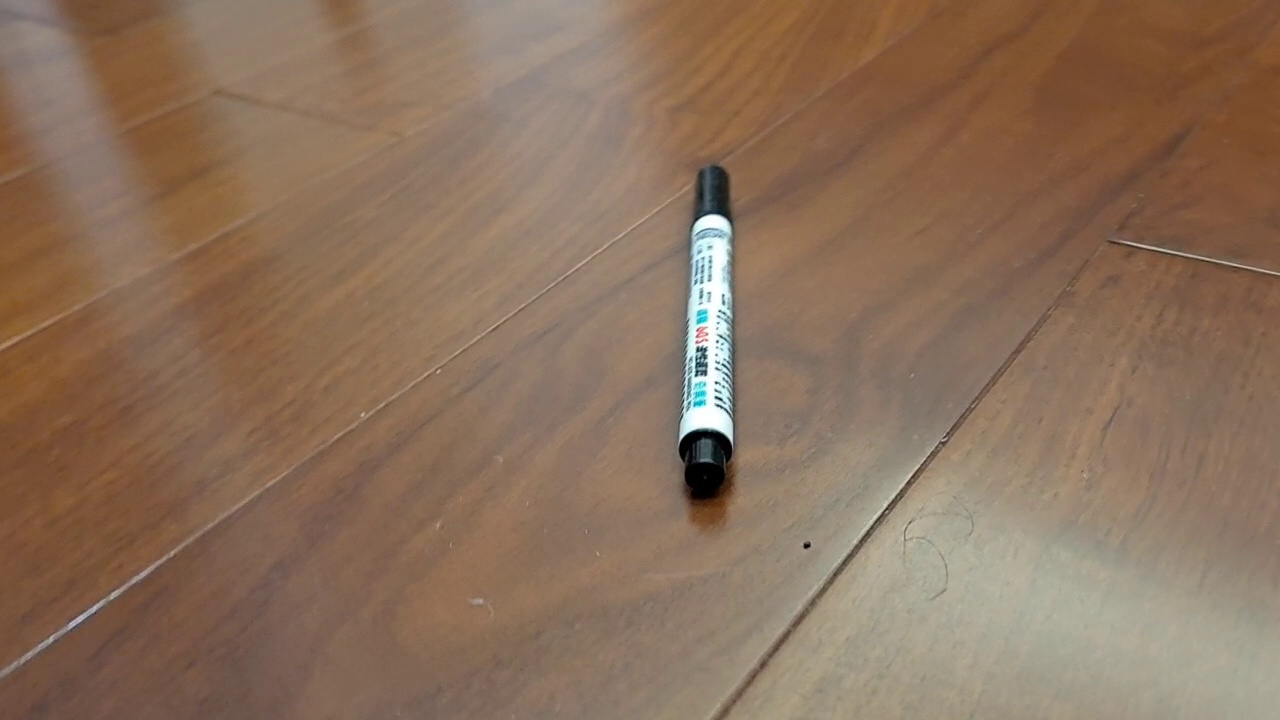pen: (676, 163, 735, 496)
